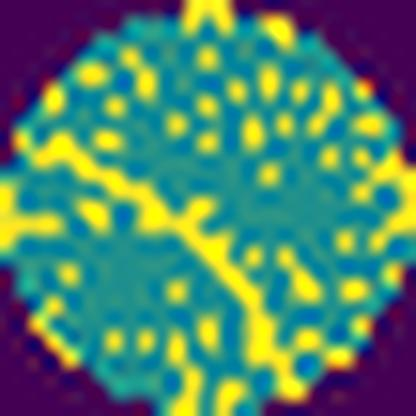Scratch: (17, 126, 308, 402)
